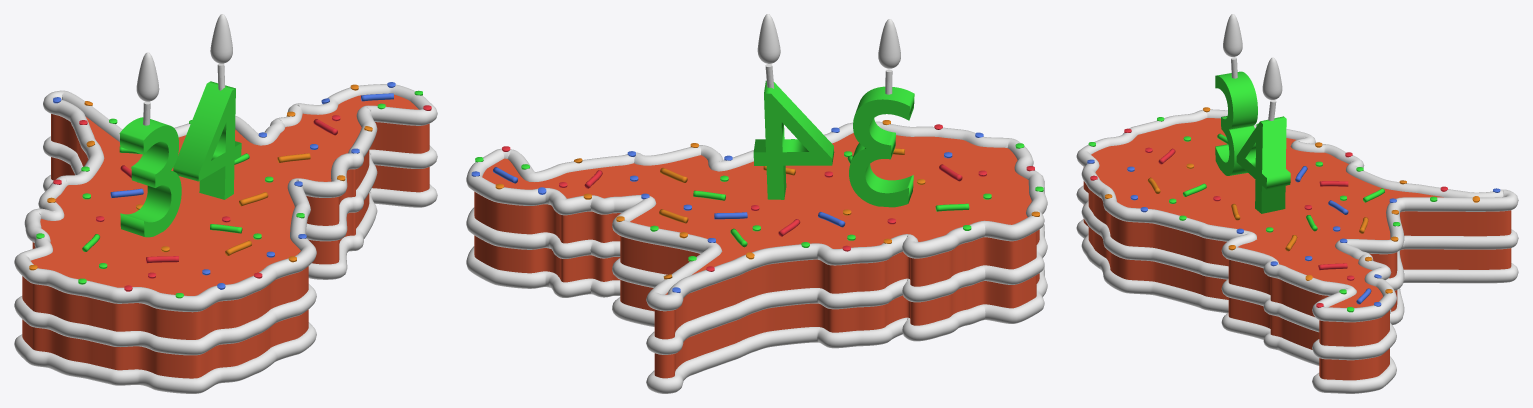
Rendered from WVCake.glb.
3 views of the same model, side by side, from view 1: azimuth 30°, elevation 25°; view 2: azimuth 150°, elevation 25°; view 3: azimuth 270°, elevation 25° (orthographic). The views are drawn at different scales.
Parts seen in each view (by area): view 1: SimplifiedWV.001, Layer1.001, Layer2.001, Layer2.002, Text4, Text3, CandleFlame2, CandleFlame1; view 2: SimplifiedWV.001, Layer1.001, Layer2.001, Layer2.002, Text3, Text4, CandleFlame1, CandleFlame2; view 3: SimplifiedWV.001, Layer1.001, Layer2.001, Layer2.002, Text4, Text3, CandleFlame1, CandleFlame2.
Part boxes in pixels (x1,y1,x2,y2): SimplifiedWV.001: (22,94,429,378); Layer1.001: (14,84,437,312); Layer2.001: (14,136,437,355); Layer2.002: (14,175,437,393); Text4: (173,81,241,199); Text3: (119,117,181,237); CandleFlame2: (210,14,232,63); CandleFlame1: (136,52,159,101); SimplifiedWV.001: (474,133,1039,378); Layer1.001: (466,121,1047,311); Layer2.001: (466,207,1047,354); Layer2.002: (466,246,1047,393); Text3: (849,86,914,207); Text4: (753,80,834,199); CandleFlame1: (878,19,900,68); CandleFlame2: (757,14,780,63); SimplifiedWV.001: (1083,118,1511,380); Layer1.001: (1076,109,1518,322); Layer2.001: (1076,185,1518,360); Layer2.002: (1076,219,1518,393); Text4: (1236,116,1290,213); Text3: (1215,71,1257,175); CandleFlame1: (1223,14,1242,56); CandleFlame2: (1262,57,1282,99).
Bounding box in the file's own units: 4.78 × 2.56 × 4.35.
